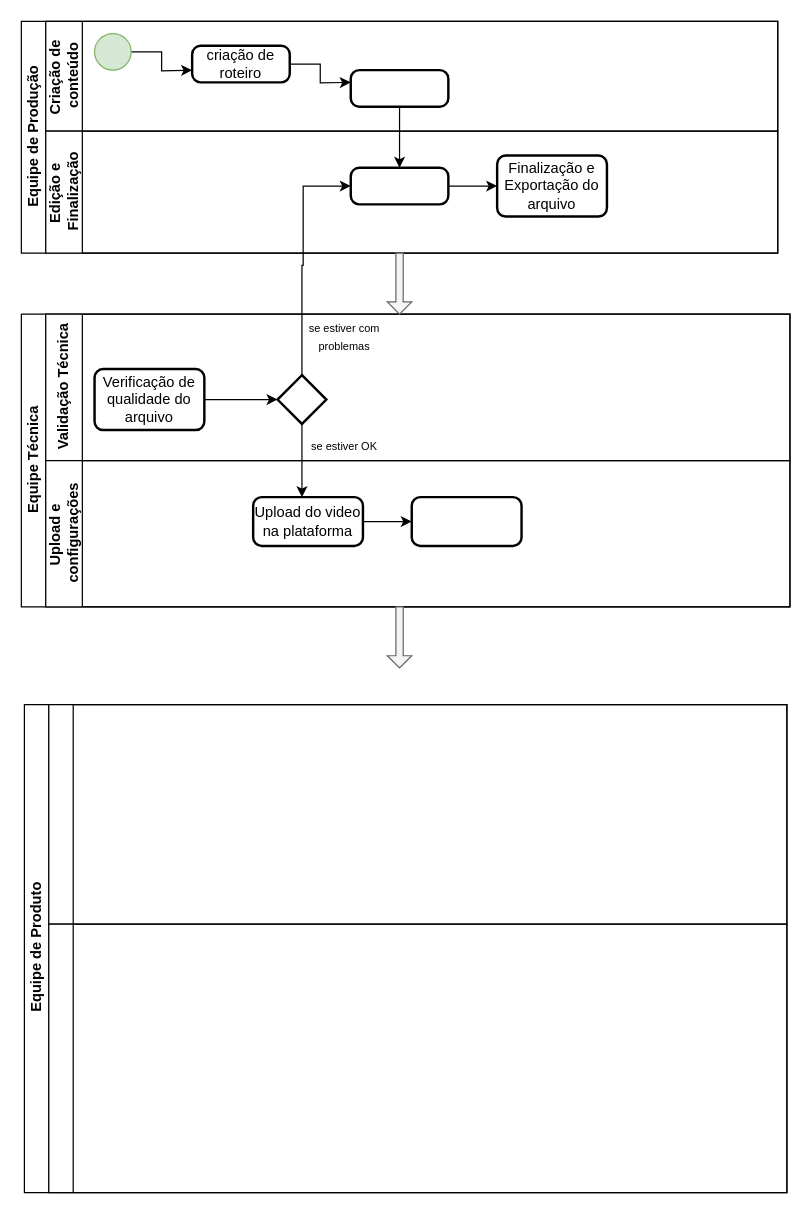
Some shapes in this 811 by 1214 pixel diagram are drawn without their labels. Here are the shapes that lost their labels. From the top down, the centre of each, then its label:
At (399,87): "gravação de conteúdo".
At (399,185): "Edição de video".
At (466,521): "Configuração de metadados".
At (417,813): "Aprovação e A gendamento".
At (417,1058): "Monitoriamento Pós-Lançamento".
